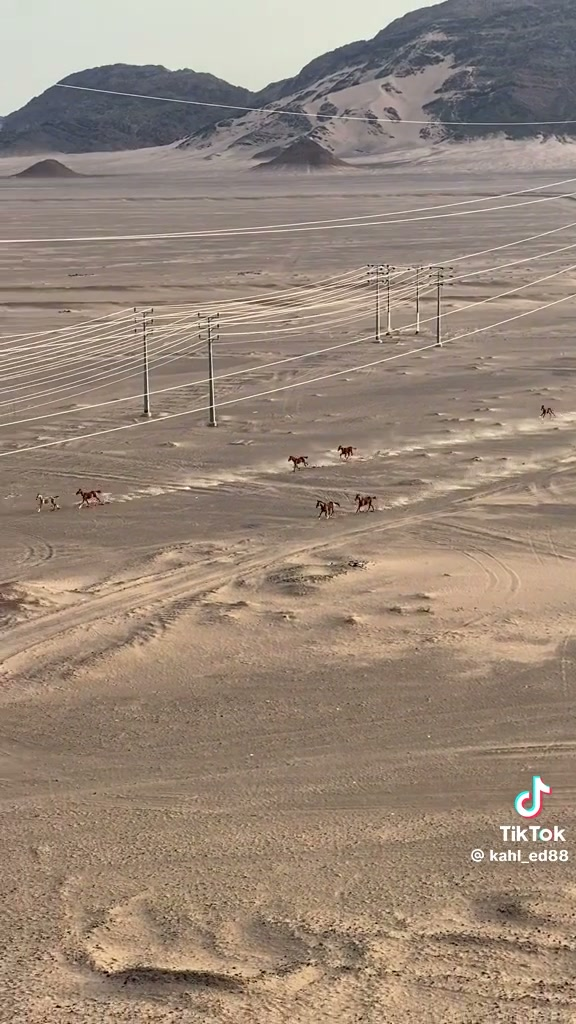animal: (76, 488, 102, 507), (316, 499, 339, 517), (354, 494, 375, 512), (37, 494, 59, 511), (288, 455, 307, 470), (338, 445, 356, 459), (540, 406, 554, 418)
vehicle_track: (0, 481, 516, 672)
